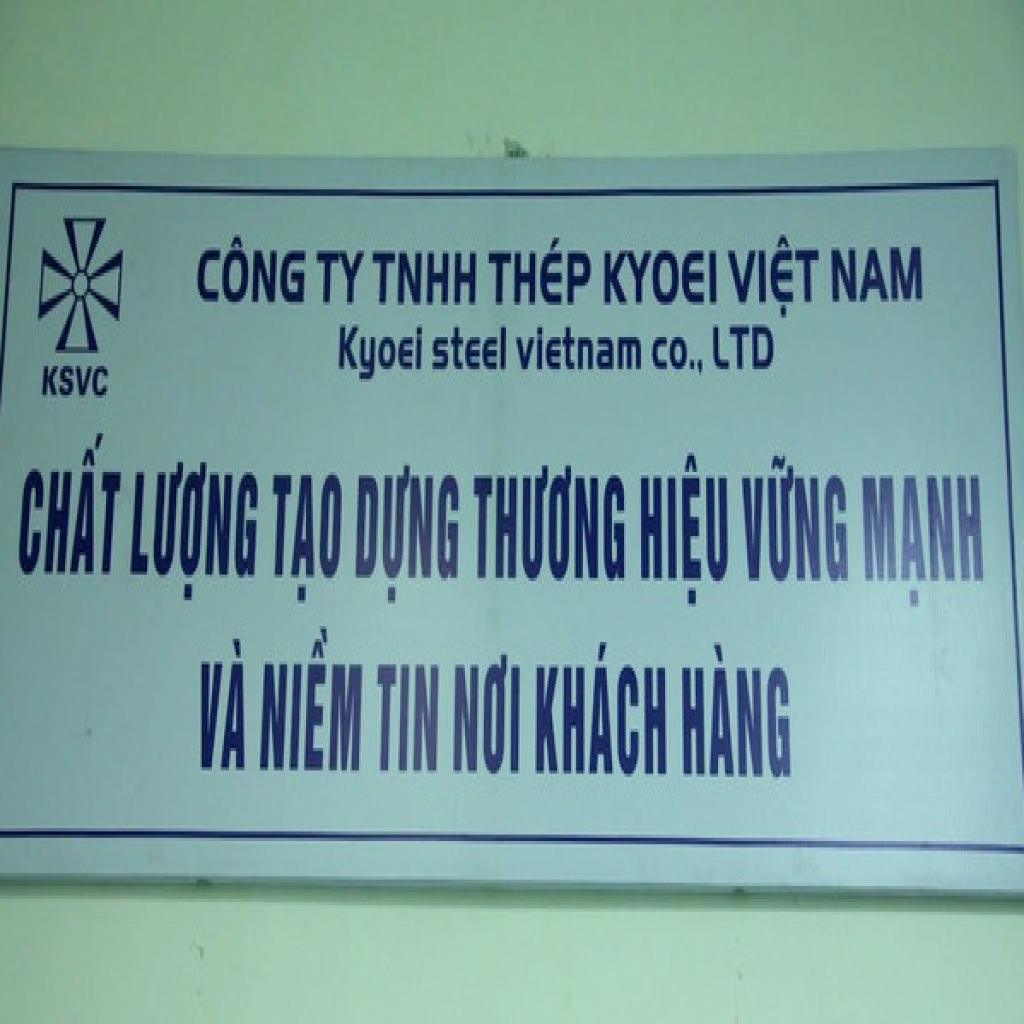text: (474, 462, 628, 588), (126, 462, 262, 604), (535, 642, 670, 780), (860, 472, 988, 610), (16, 430, 126, 581), (352, 462, 462, 610), (680, 639, 795, 780), (260, 626, 366, 777), (639, 449, 732, 610), (738, 453, 852, 584), (267, 472, 345, 607), (487, 228, 593, 311), (453, 655, 523, 777), (727, 234, 824, 321), (196, 234, 308, 308), (374, 664, 441, 777), (604, 248, 720, 312), (196, 636, 248, 776), (371, 248, 480, 312), (514, 324, 644, 376), (831, 247, 926, 308), (338, 318, 424, 385), (431, 324, 509, 376), (314, 247, 368, 308), (650, 331, 708, 382), (39, 363, 113, 401)
